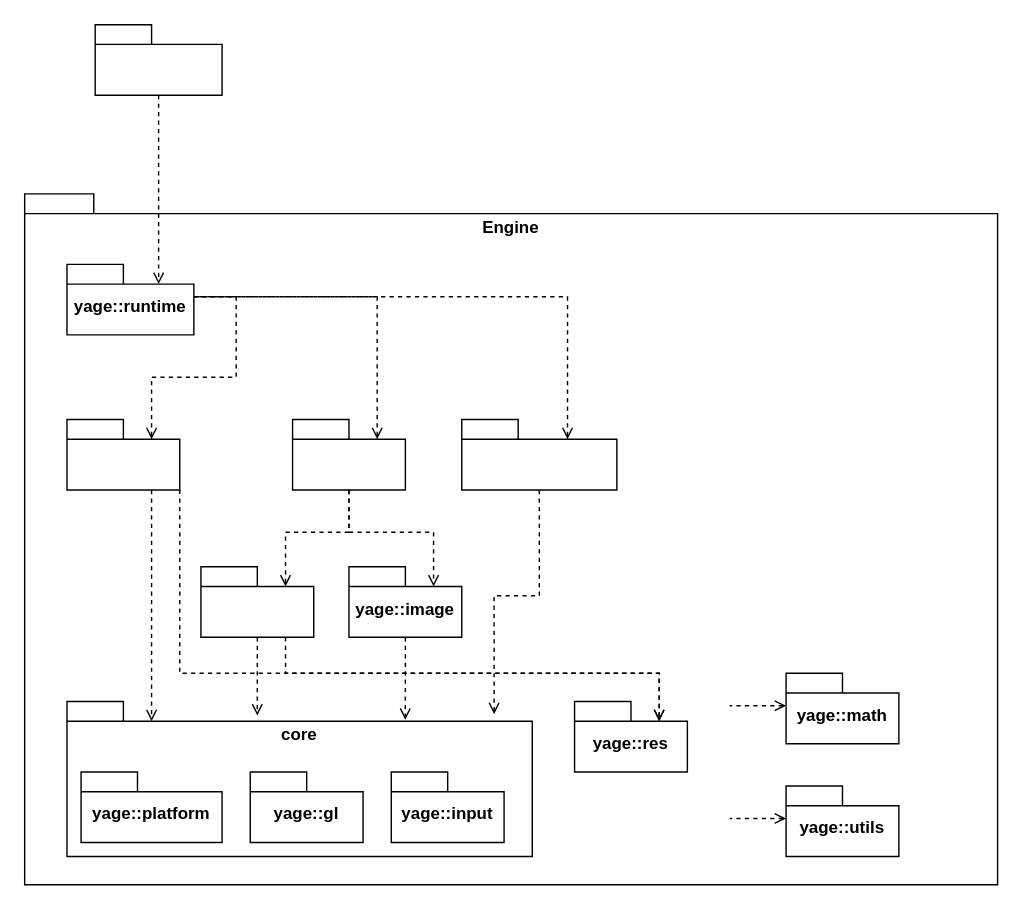
This 1022x909 diagram has some shape labels left out. Here are the shapes that lost their labels. From the top down, the box of each, then its label:
(94, 23, 222, 95): Application
(66, 418, 180, 490): yage::gl3d
(291, 418, 405, 490): yage::gui
(460, 418, 617, 490): yage::physics3d
(200, 565, 314, 637): yage::font
